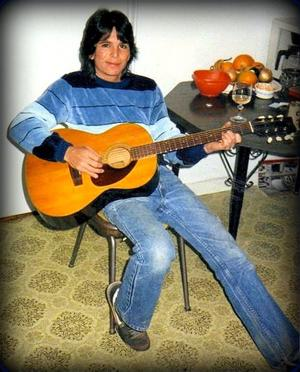person: (7, 8, 300, 371)
